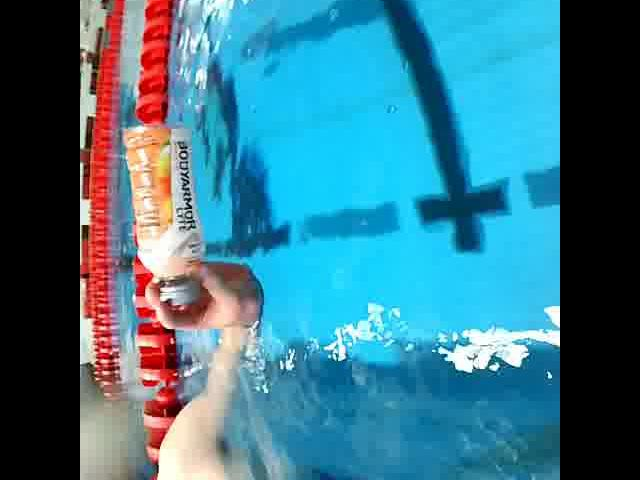Bottle: (109, 118, 211, 312)
